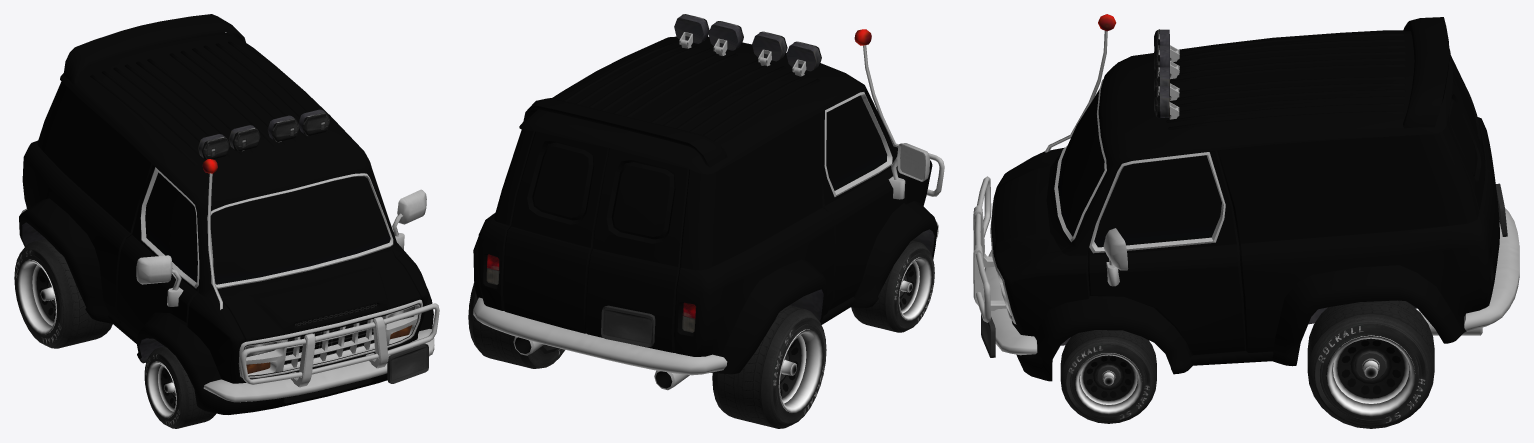
Rendered from rc_shvan_-_low_poly_model.glb.
3 renders of one model, left to right at view 1: azimuth 30°, elevation 25°; view 2: azimuth 150°, elevation 25°; view 3: azimuth 270°, elevation 25°, orthographic. The views are drawn at different scales.
Parts seen in each view (by area): view 1: RCSHVAN_Body_RCSHVAN_Bodymat_0, RCSHVAN_bottom_UCB_BOTTOM_0, RCSHVAN_Bumper_Front_UCB_BOTTOM_0, RCSHVAN_WheelStock_RR_RB0a_Tire_0, RCSHVAN_WheelStock_FR_RB0a_Tire_0; view 2: RCSHVAN_Body_RCSHVAN_Bodymat_0, RCSHVAN_bottom_UCB_BOTTOM_0, RCSHVAN_WheelStock_RR_RB0a_Tire_0, RCSHVAN_Bumper_Rear_UCB_BOTTOM_0, RCSHVAN_WheelStock_FR_RB0a_Tire_0, RCSHVAN_WheelStock_RL_RB0a_Tire_0; view 3: RCSHVAN_Body_RCSHVAN_Bodymat_0, RCSHVAN_bottom_UCB_BOTTOM_0, RCSHVAN_WheelStock_RL_RB0a_Tire_0, RCSHVAN_WheelStock_FL_RB0a_Tire_0, RCSHVAN_Bumper_Front_UCB_BOTTOM_0, RCSHVAN_Bumper_Rear_UCB_BOTTOM_0.
Boxes of the visible parts, x1,y1,x2,y2 form: RCSHVAN_Body_RCSHVAN_Bodymat_0: (19,14,433,414); RCSHVAN_bottom_UCB_BOTTOM_0: (22,109,426,398); RCSHVAN_Bumper_Front_UCB_BOTTOM_0: (203,303,439,402); RCSHVAN_WheelStock_RR_RB0a_Tire_0: (14,238,112,348); RCSHVAN_WheelStock_FR_RB0a_Tire_0: (144,346,216,428); RCSHVAN_Body_RCSHVAN_Bodymat_0: (473,36,937,374); RCSHVAN_bottom_UCB_BOTTOM_0: (513,14,934,390); RCSHVAN_WheelStock_RR_RB0a_Tire_0: (712,305,826,428); RCSHVAN_Bumper_Rear_UCB_BOTTOM_0: (473,297,727,375); RCSHVAN_WheelStock_FR_RB0a_Tire_0: (851,240,934,332); RCSHVAN_WheelStock_RL_RB0a_Tire_0: (468,282,564,368); RCSHVAN_Body_RCSHVAN_Bodymat_0: (991,17,1499,381); RCSHVAN_bottom_UCB_BOTTOM_0: (990,14,1507,352); RCSHVAN_WheelStock_RL_RB0a_Tire_0: (1307,300,1434,428); RCSHVAN_WheelStock_FL_RB0a_Tire_0: (1060,330,1156,423); RCSHVAN_Bumper_Front_UCB_BOTTOM_0: (973,176,1037,357); RCSHVAN_Bumper_Rear_UCB_BOTTOM_0: (1464,208,1519,331).
Size of the model in its own units: 0.3478 by 0.3049 by 0.4959.
4 materials, 3 textured.
